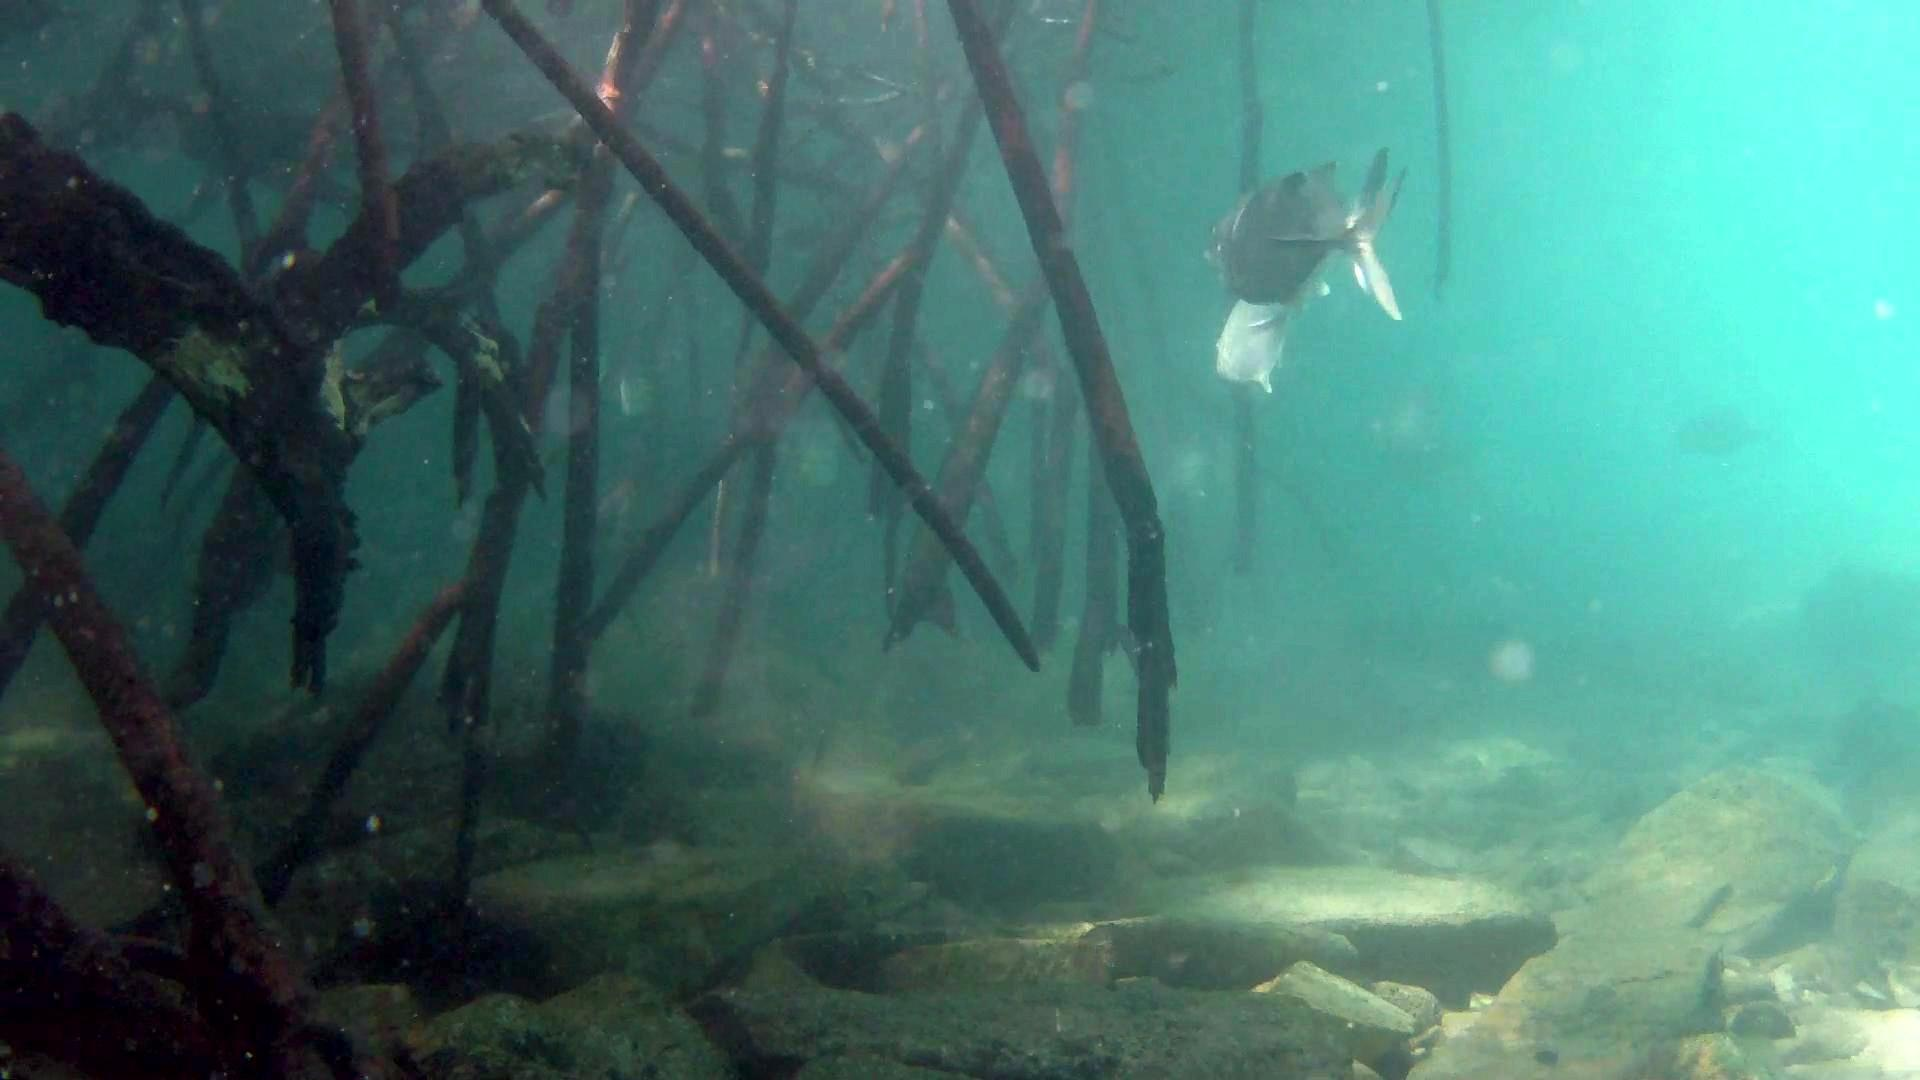caranx: (1215, 123, 1422, 338)
